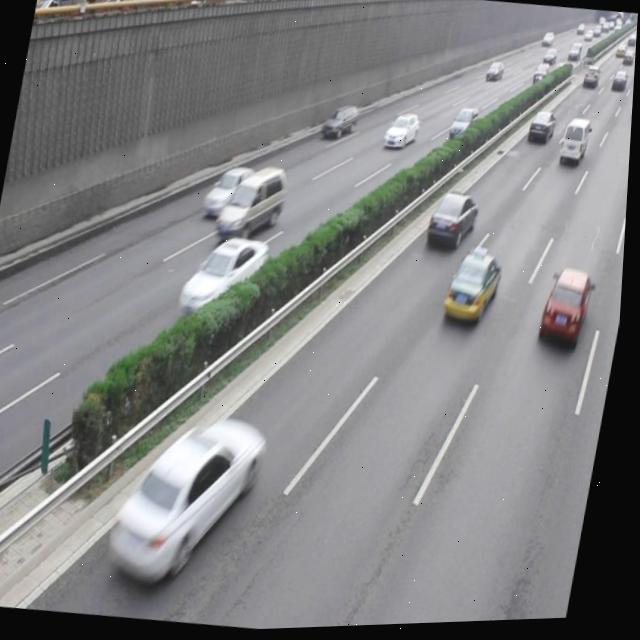car: (105, 409, 272, 599), (176, 232, 273, 327), (441, 249, 506, 332), (538, 268, 597, 351), (425, 189, 483, 255), (202, 162, 261, 223), (320, 102, 361, 143), (382, 112, 421, 155)
truck: (215, 160, 293, 245), (558, 119, 592, 170)
